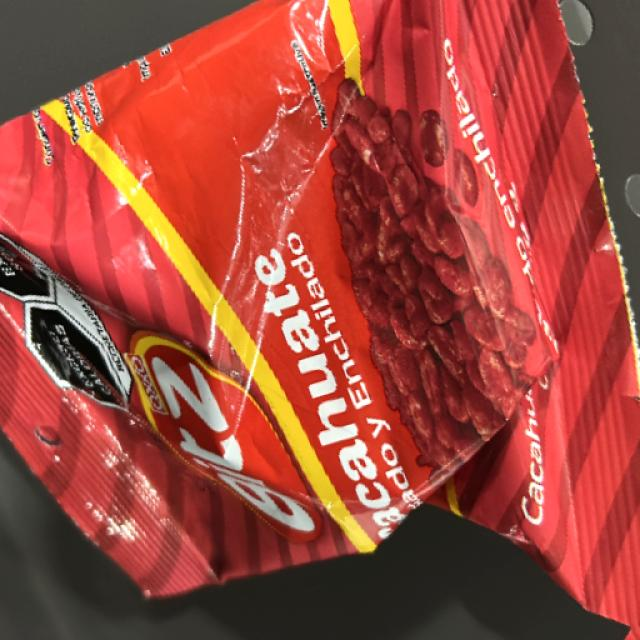bitzEnchilado90: (39, 69, 623, 563)
